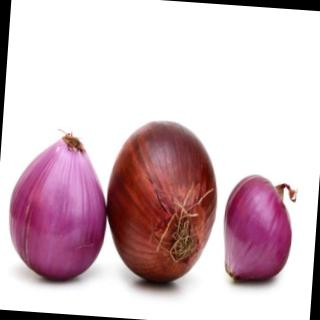Bawang Merah: (2, 126, 112, 286), (218, 172, 303, 289)
